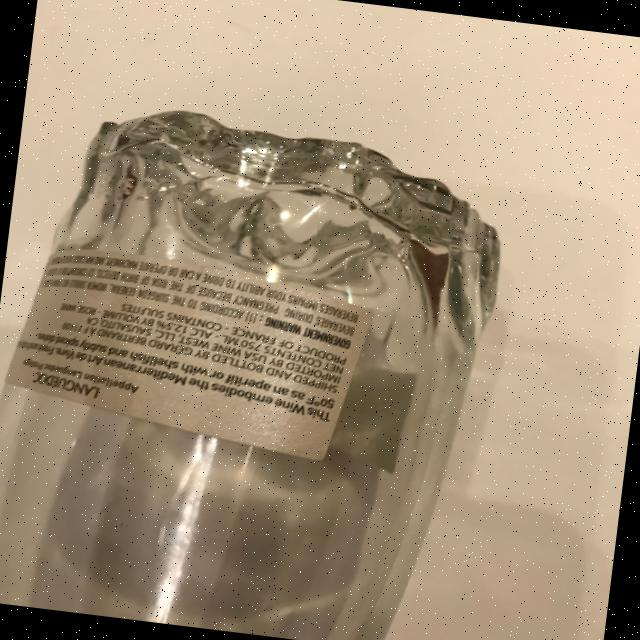glass: (0, 90, 515, 640)
